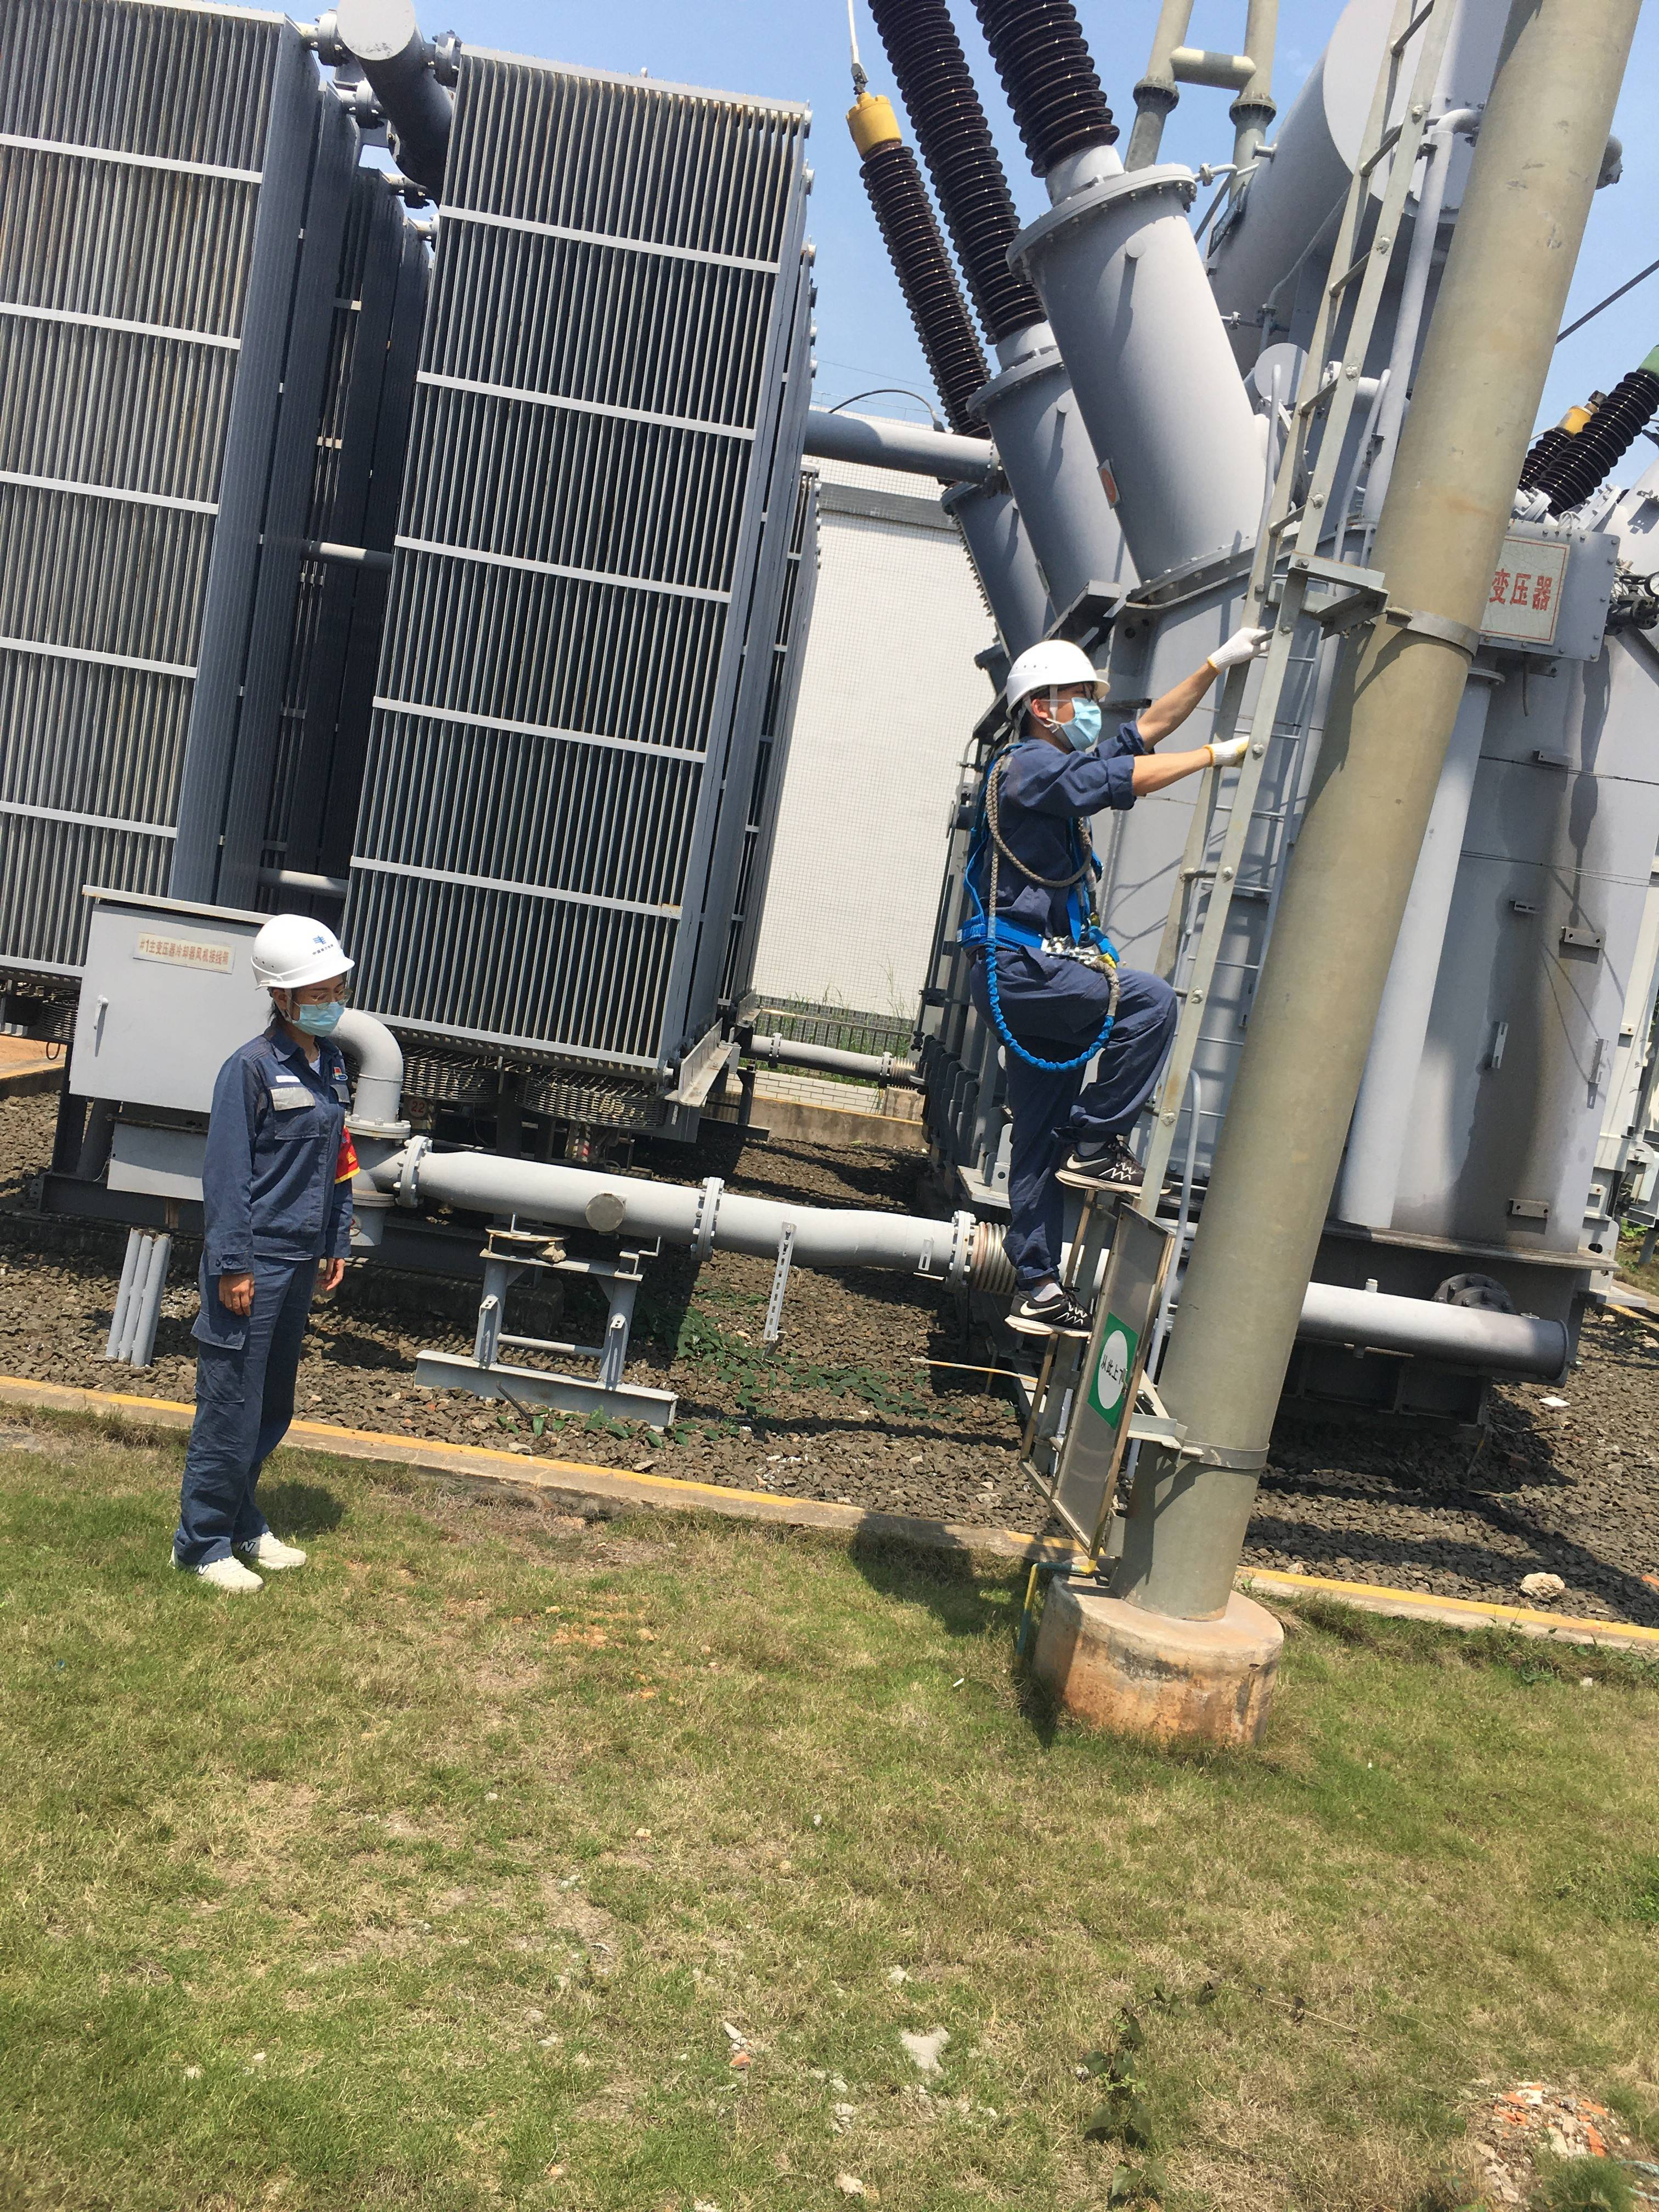downsuit: (981, 961, 1188, 1287), (181, 1268, 322, 1554)
upsuit: (192, 1024, 387, 1264), (955, 732, 1143, 951)
wrongtop: (1131, 651, 1227, 738), (1110, 737, 1229, 805)
